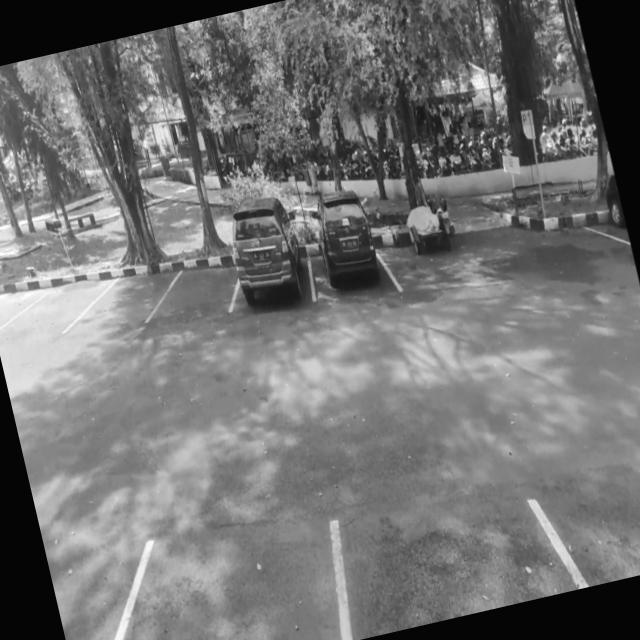car: (296, 195, 396, 308), (220, 210, 319, 322)
free: (321, 466, 593, 640), (64, 498, 351, 640), (152, 249, 242, 331), (84, 261, 170, 338), (8, 270, 94, 343), (0, 282, 24, 335)
